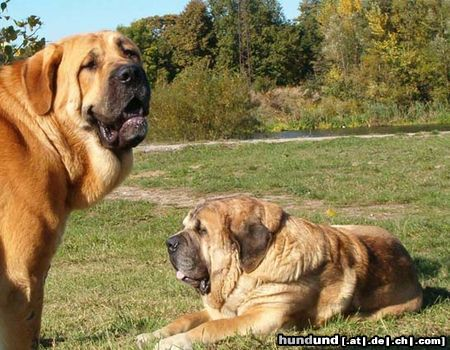mastin_espanol: (0, 29, 150, 350), (135, 195, 424, 350)
